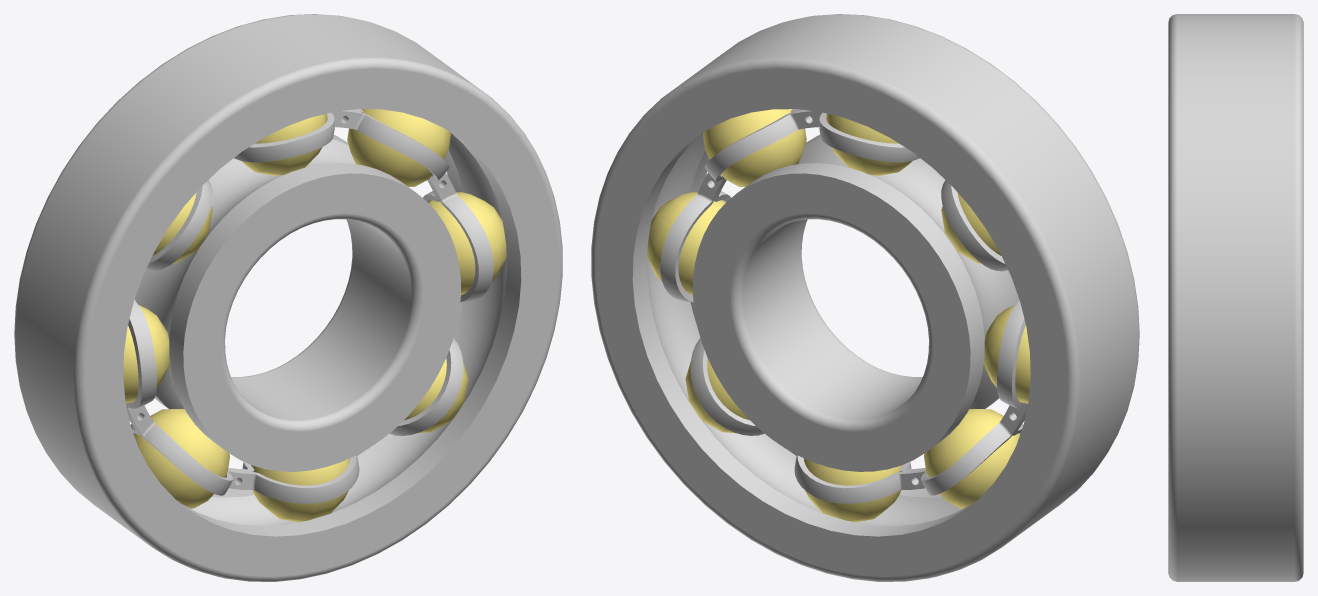
File: bearing.glb
The picture shows the model from 3 angles, left to right: view 1: azimuth 30°, elevation 25°; view 2: azimuth 150°, elevation 25°; view 3: azimuth 270°, elevation 25°; orthographic projection.
Visible parts, largest first — view 1: Object_2, Object_3; view 2: Object_2, Object_3; view 3: Object_2.
Boxes of the visible parts, box(x1,y1,x2,y2) form: Object_2: box(14, 14, 562, 581); Object_3: box(123, 109, 506, 522); Object_2: box(591, 14, 1139, 581); Object_3: box(647, 109, 1030, 522); Object_2: box(1168, 14, 1303, 581).
Bounding box in the file's own units: 5.12 × 5.11 × 1.22.
